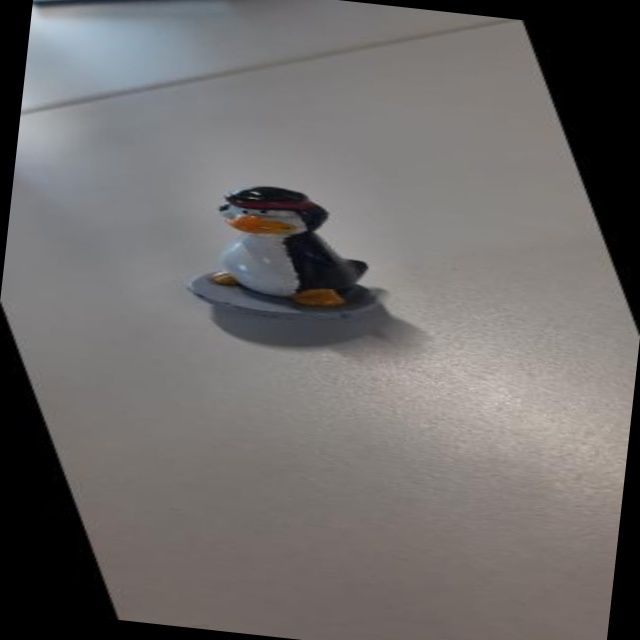Penguin: (130, 153, 431, 356)
